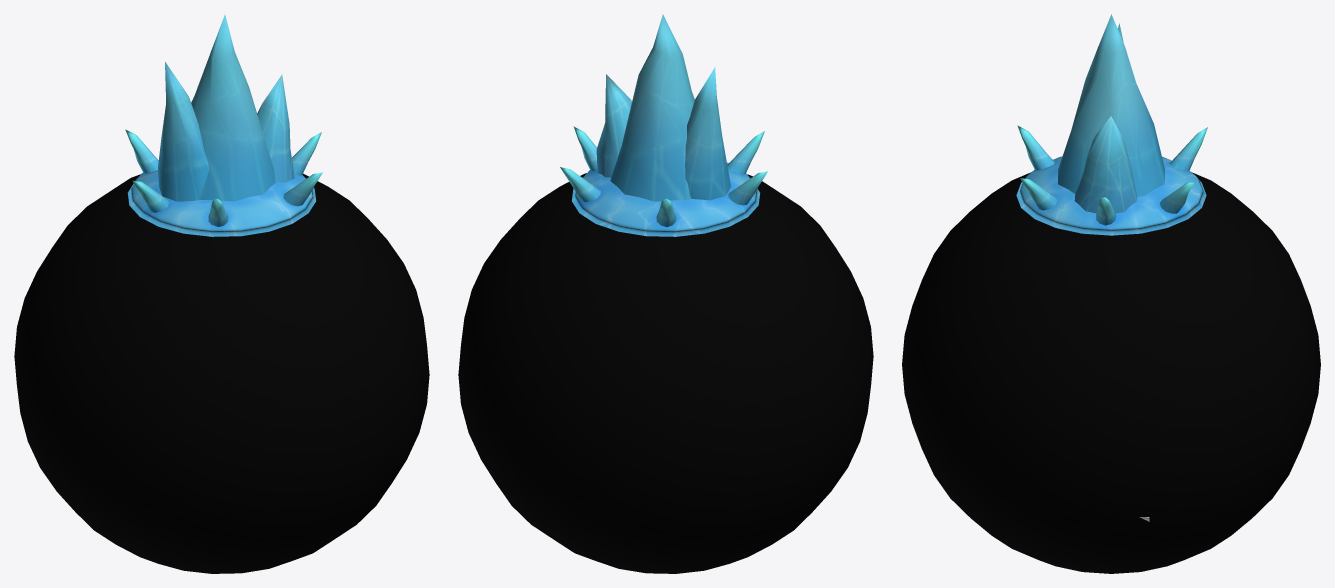
File: wakusei_ice.fbx
3 views of the same model, side by side, from view 1: azimuth 30°, elevation 25°; view 2: azimuth 150°, elevation 25°; view 3: azimuth 270°, elevation 25° (orthographic).
Parts seen in each view (by area): view 1: polySurface1, pCone60, polySurface2, pCone61, pCone62, pCone68, pCone66, pCone64, pCone63; view 2: polySurface1, pCone60, polySurface2, pCone61, pCone62, pCone65, pCone67, pCone64; view 3: polySurface1, pCone60, polySurface2, pCone62, pCone65, pCone68, pCone66, pCone67.
Part boxes in pixels (box(x1,y1,x2,y2)): polySurface1: box(14, 173, 429, 573); pCone60: box(191, 14, 275, 201); polySurface2: box(127, 170, 315, 236); pCone61: box(158, 62, 209, 201); pCone62: box(257, 74, 294, 182); pCone68: box(125, 129, 158, 173); pCone66: box(283, 172, 322, 206); pCone64: box(133, 180, 168, 212); pCone63: box(292, 132, 321, 175); polySurface1: box(458, 173, 873, 573); pCone60: box(610, 14, 694, 201); polySurface2: box(572, 162, 760, 236); pCone61: box(685, 67, 730, 200); pCone62: box(596, 74, 631, 177); pCone65: box(727, 131, 764, 174); pCone67: box(560, 167, 600, 202); pCone64: box(728, 171, 767, 205); polySurface1: box(902, 172, 1320, 573); pCone60: box(1058, 14, 1164, 196); polySurface2: box(1016, 156, 1206, 235); pCone62: box(1074, 116, 1137, 213); pCone65: box(1017, 125, 1054, 170); pCone68: box(1169, 127, 1207, 171); pCone66: box(1020, 178, 1057, 210); pCone67: box(1159, 182, 1193, 213).
Size of the model in its own units: 12.49 by 17.83 by 12.49.
